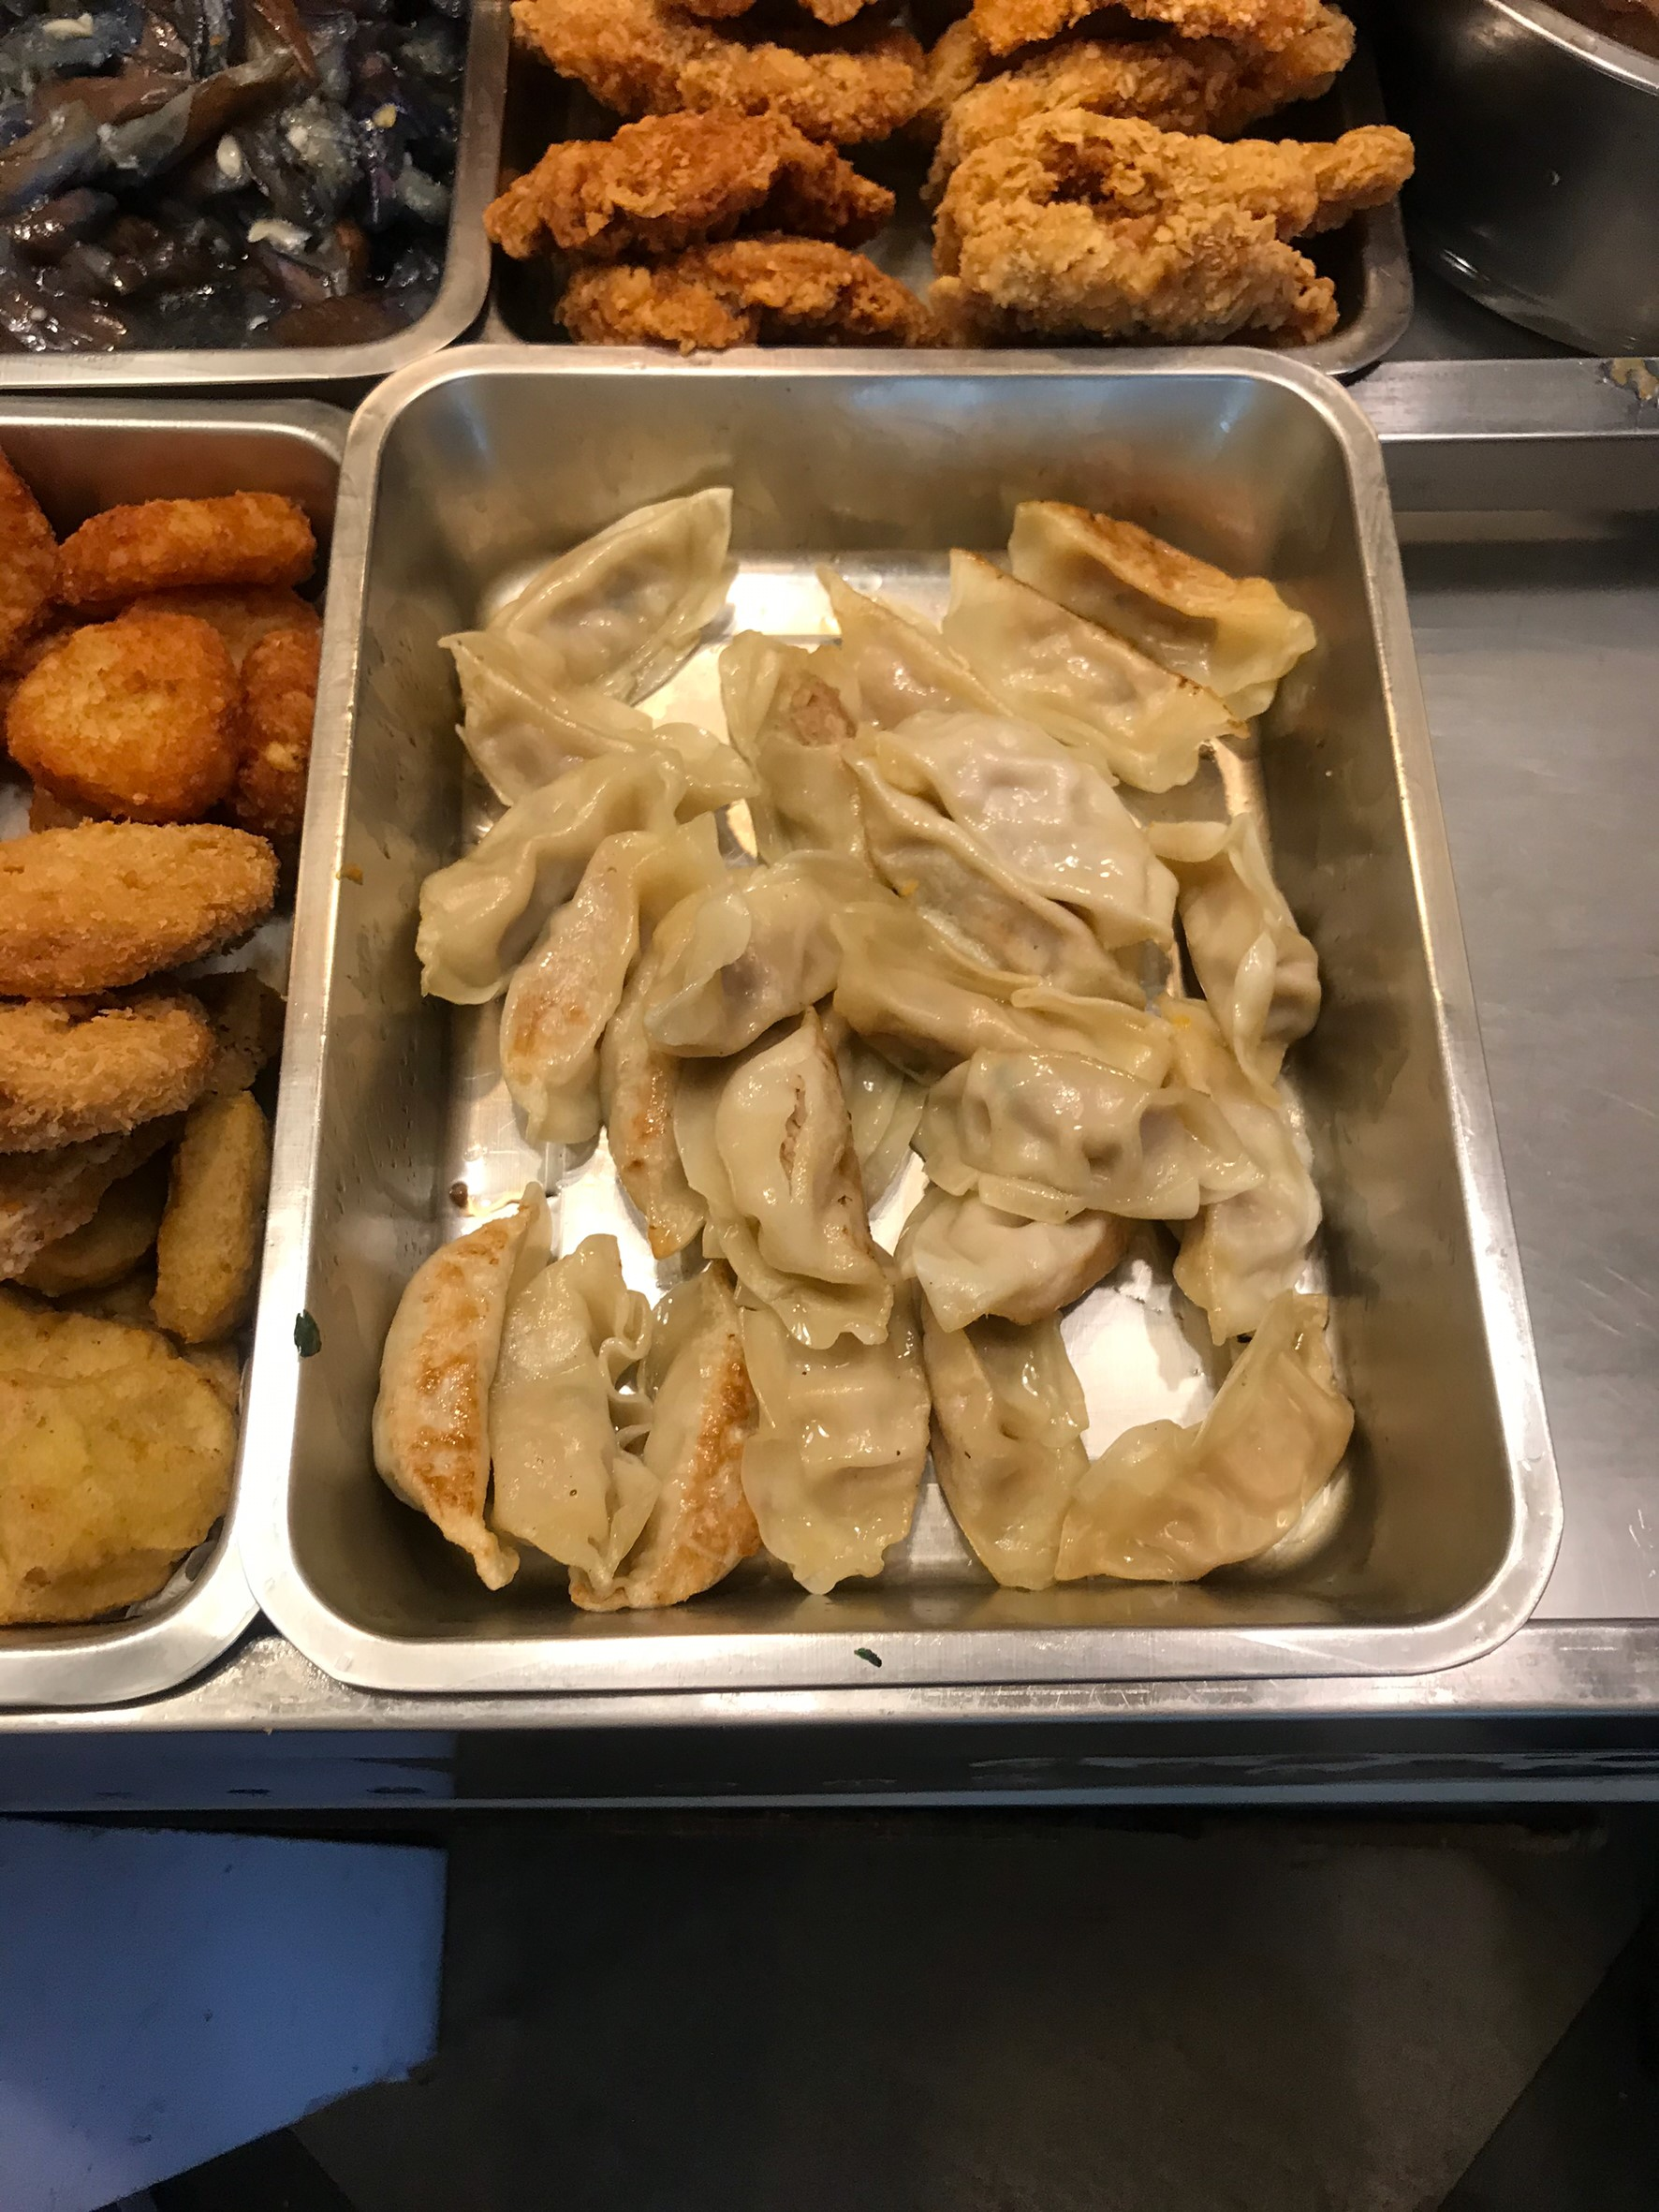chicken_nuggets: (2, 1304, 246, 1635)
fried_chicken: (491, 2, 1364, 357)
fried_dumplings: (441, 507, 1286, 1586)
triangle_hash_brown: (2, 476, 322, 812)
